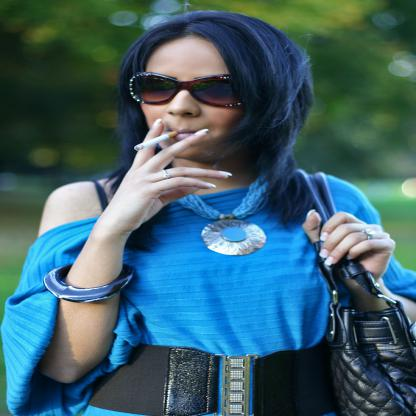smoking: (134, 130, 182, 151)
